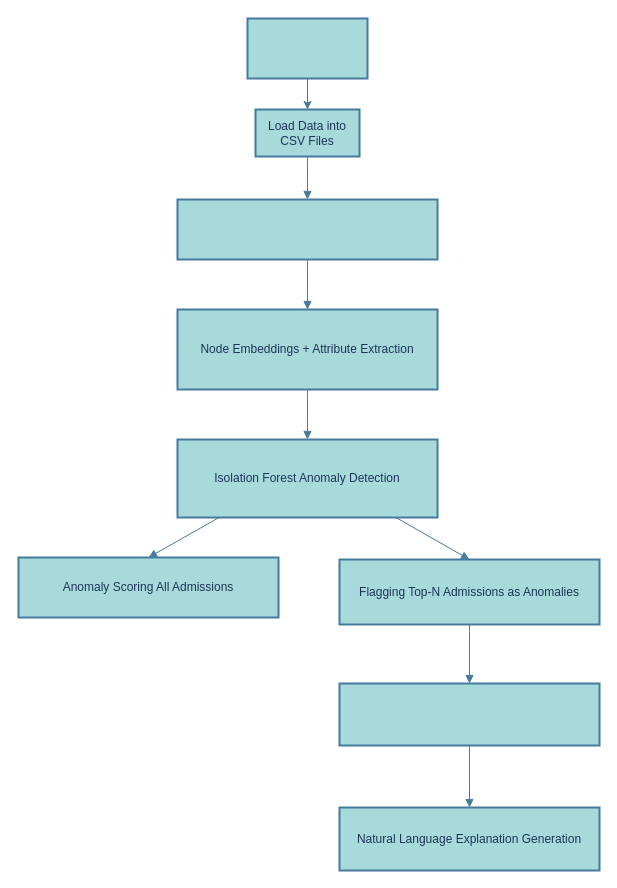
Some shapes in this 617 by 888 pixel diagram are drawn without their labels. Here are the shapes that lost their labels. From the top down, the centre of each, then its label:
point 307,48: Query EHR Dataset Using GCP BigQuery
point 307,229: Knowledge Graph Database Construction
point 469,714: LLM-Driven Dynamic Graph Querying
